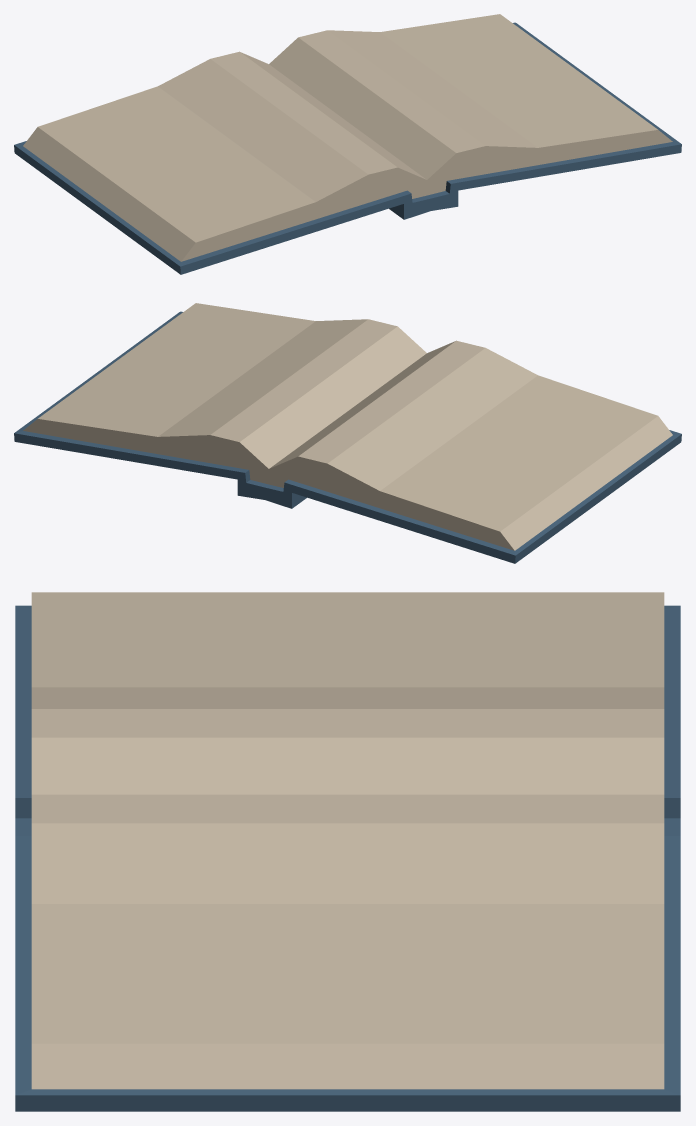
Rendered from SM_Prop_BookOpen_01.fbx.
The picture shows the model from 3 angles, top to bottom: view 1: azimuth 30°, elevation 25°; view 2: azimuth 150°, elevation 25°; view 3: azimuth 270°, elevation 25°; orthographic projection. The views are drawn at different scales.
Visible parts, largest first — view 1: SM_Prop_BookOpen_01; view 2: SM_Prop_BookOpen_01; view 3: SM_Prop_BookOpen_01.
Boxes of the visible parts, x1,y1,x2,y2 form: SM_Prop_BookOpen_01: (14, 14, 681, 274); SM_Prop_BookOpen_01: (14, 303, 681, 563); SM_Prop_BookOpen_01: (15, 592, 680, 1111).
Size of the model in its own units: 60.15 by 5.8 by 34.54.
